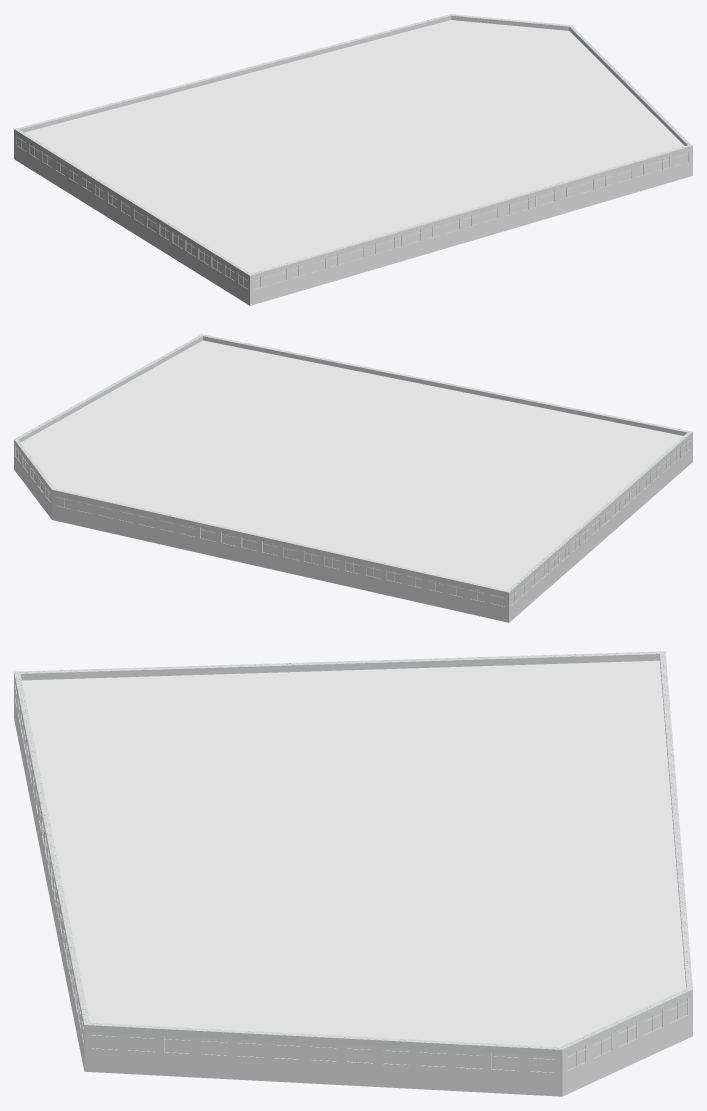
File: clohc595o03ml4p025557rkpn_0.glb
The picture shows the model from 3 angles, top to bottom: view 1: azimuth 30°, elevation 25°; view 2: azimuth 150°, elevation 25°; view 3: azimuth 270°, elevation 25°; orthographic projection. The views are drawn at different scales.
Visible parts, largest first — view 1: mesh_CityEnginePBRShader, mesh_Brick, mesh_Glass, mesh_Wall; view 2: mesh_CityEnginePBRShader, mesh_Brick, mesh_Glass, mesh_Wall; view 3: mesh_CityEnginePBRShader, mesh_Brick, mesh_Glass, mesh_Wall.
Boxes of the visible parts, x1,y1,x2,y2 form: mesh_CityEnginePBRShader: (14,20,692,305); mesh_Brick: (14,14,692,305); mesh_Glass: (16,147,689,303); mesh_Wall: (15,134,691,304); mesh_CityEnginePBRShader: (14,340,692,622); mesh_Brick: (14,334,692,622); mesh_Glass: (15,447,690,621); mesh_Wall: (14,437,692,621); mesh_CityEnginePBRShader: (14,660,692,1096); mesh_Brick: (14,651,692,1095); mesh_Glass: (14,700,688,1095); mesh_Wall: (14,681,691,1095).
Size of the model in its own units: 77.76 by 4.26 by 55.98.
5 materials, 1 textured.
